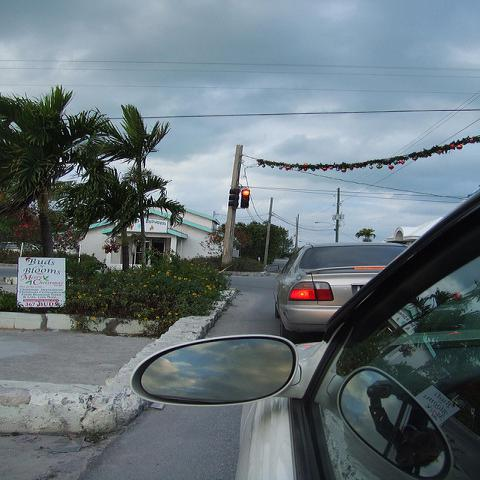car: (141, 193, 473, 474), (265, 242, 410, 344), (235, 404, 307, 478)
